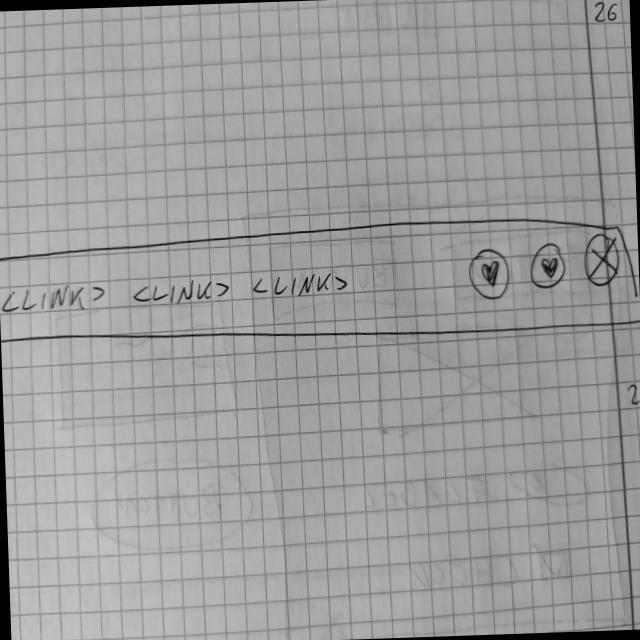container: (1, 208, 640, 353)
icon-button: (466, 246, 512, 305), (527, 241, 570, 292)
image: (583, 229, 624, 290)
link: (1, 281, 110, 319), (130, 275, 234, 311), (251, 269, 353, 304)
